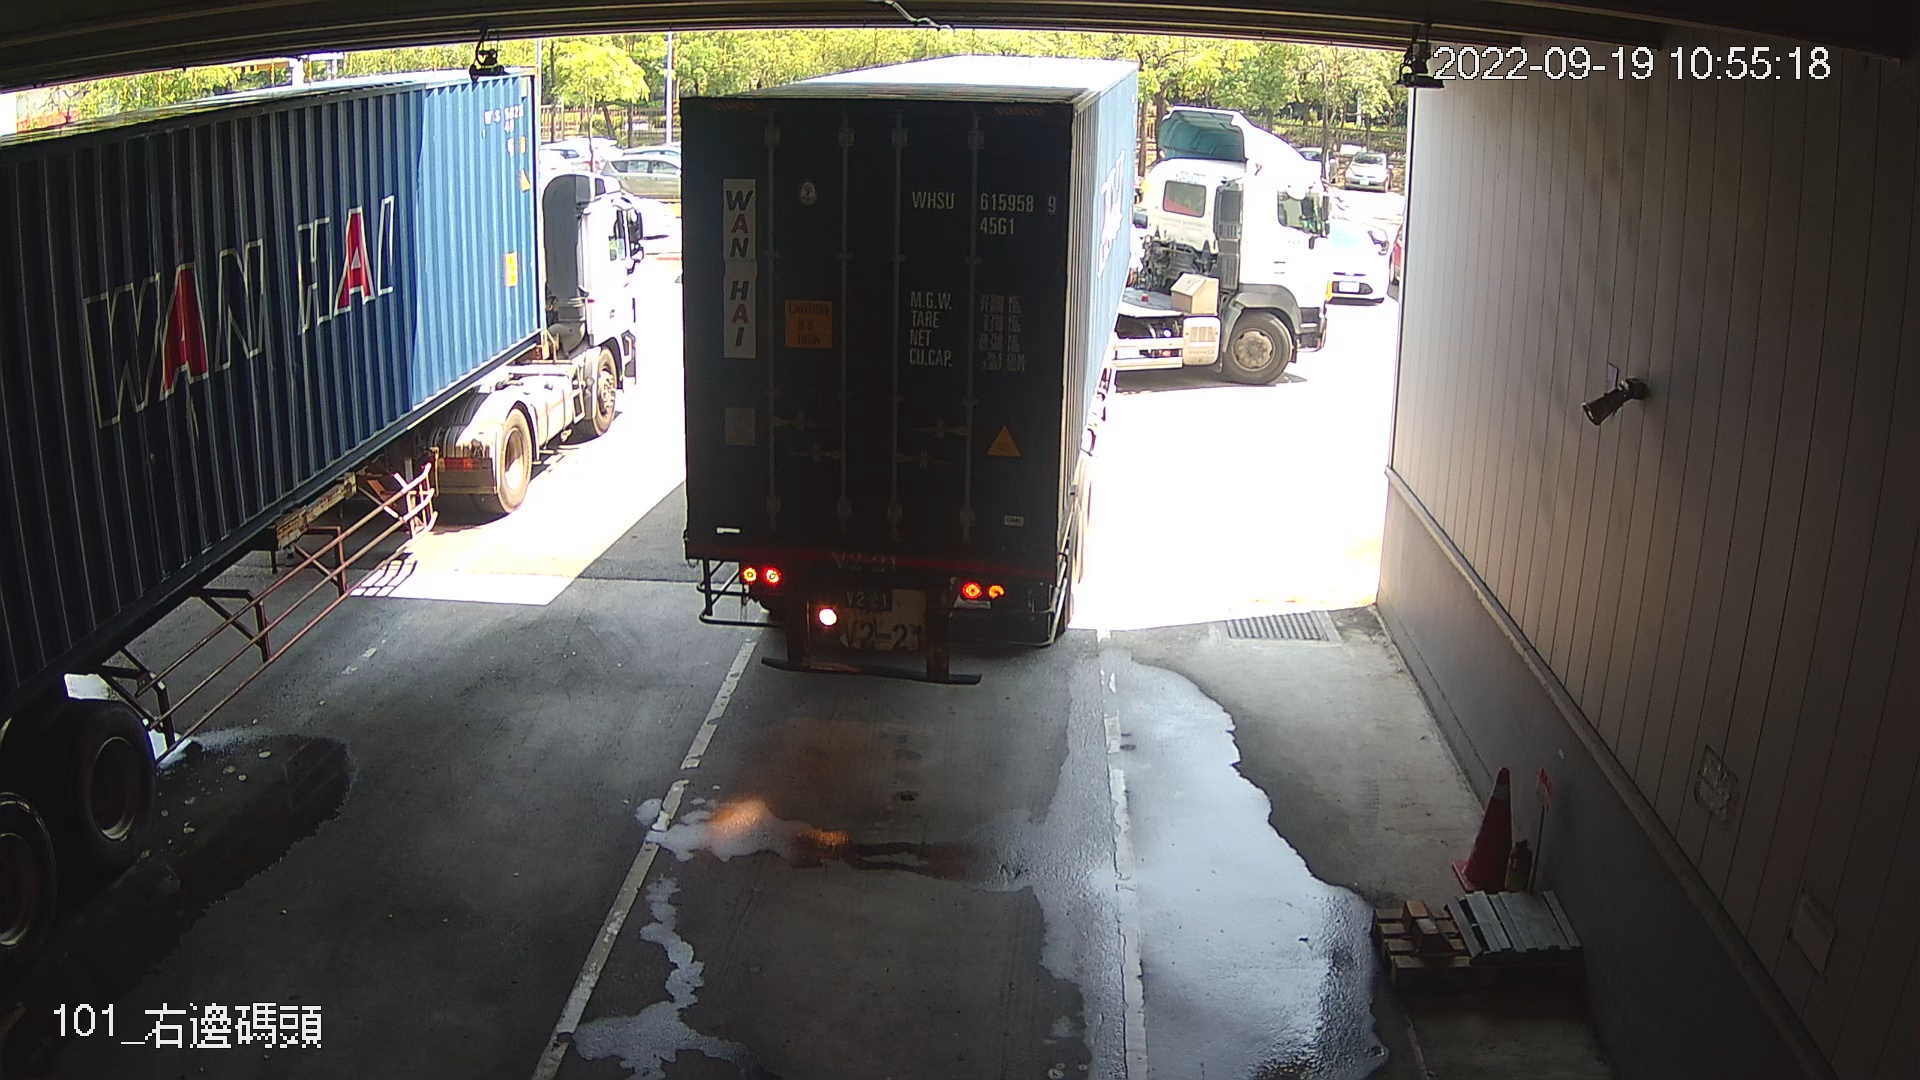container: (905, 179, 1064, 241)
